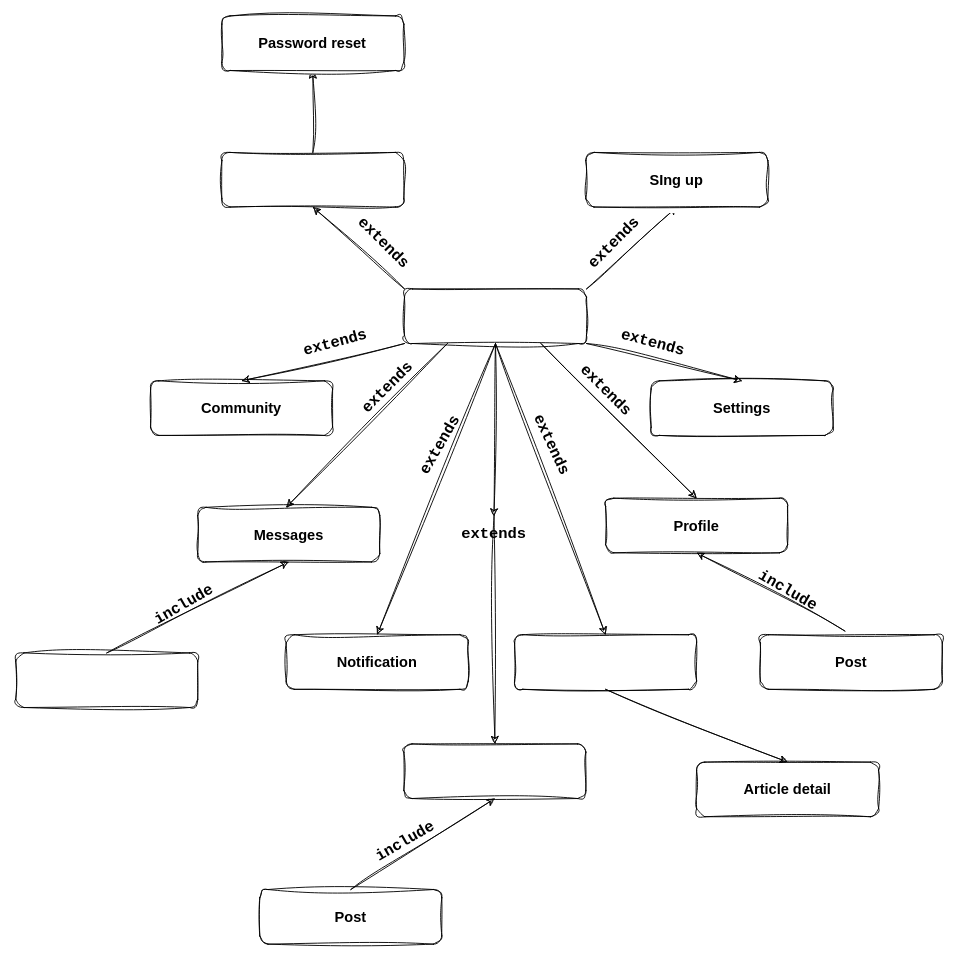
Image size: 959x960. Some labels were removed from this diagram. The centre of each missing label's shape, as x and y in pixels:
base.html: (495,316)
Chat: (106,680)
Explore: (605,661)
Sing in: (312,179)
Главная страница Posts: (494,771)
